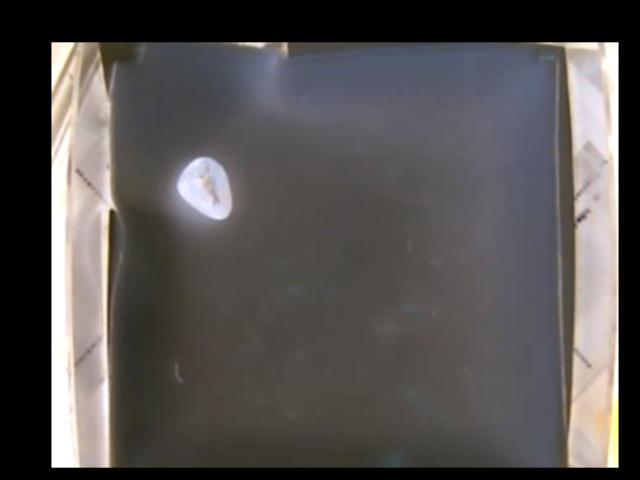Pebble: (179, 155, 232, 220)
